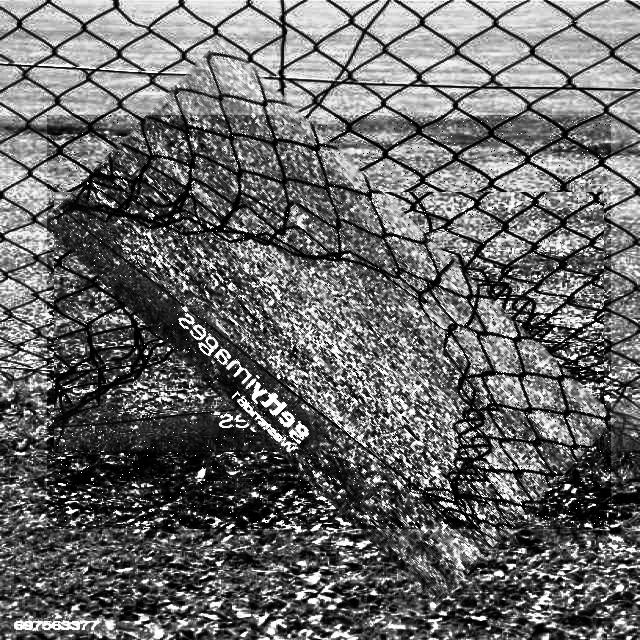anomaly-fence: (47, 115, 611, 529)
